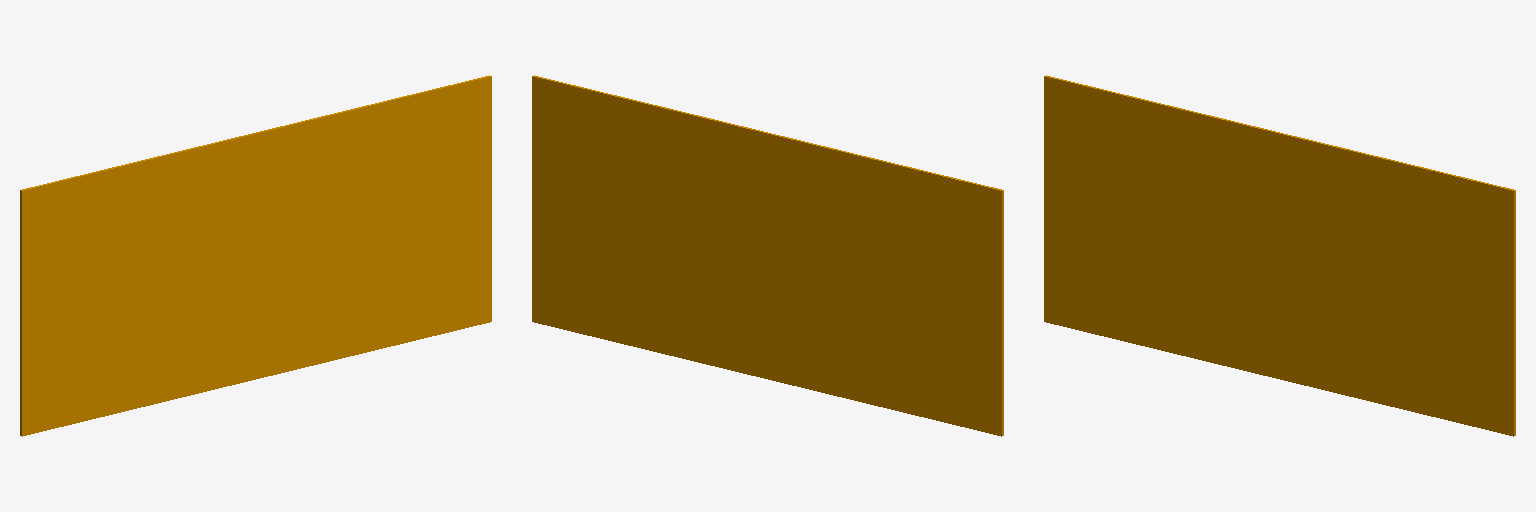
The robot description file, URDF, robot "right_wall":
<?xml version='1.0' encoding='UTF-8'?>
<robot name="right_wall">
  <link name="base_link">
    <inertial>
      <origin xyz="0.0 0.0 0.0" rpy="0.0 -0.0 0.0"/>
      <mass value="1.0"/>
      <inertia ixx="1.0" ixy="0.0" ixz="0.0" iyy="1.0" iyz="0.0" izz="1.0"/>
    </inertial>
    <visual name="base_link_visual">
      <geometry>
        <box size="40 0.2 20"/>
      </geometry>
      <origin xyz="0 0 0" rpy="0 0 0"/>
    </visual>
    <collision name="base_link_collision">
      <geometry>
        <box size="40 0.2 20"/>
      </geometry>
      <origin xyz="0 0 0" rpy="0 0 0"/>
    </collision>
  </link>
</robot>

--- Facts derived from the render (not from the file) ---
The picture shows the robot from 3 angles, left to right: view 1: azimuth 30°, elevation 25°; view 2: azimuth 150°, elevation 25°; view 3: azimuth 330°, elevation 25°; orthographic projection.
Model right_wall with 1 links and 0 joints (none), rooted at base_link, posed every joint at zero.
Visible links, largest first — view 1: base_link; view 2: base_link; view 3: base_link.
Link boxes in pixels (x1=…): base_link: x1=20, y1=75, x2=491, y2=436; base_link: x1=532, y1=75, x2=1003, y2=436; base_link: x1=1044, y1=75, x2=1515, y2=436.
Size in the robot's own frame: 40 by 0.2 by 20 metres.
Geometry: primitives only (box / cylinder / sphere), no mesh files.